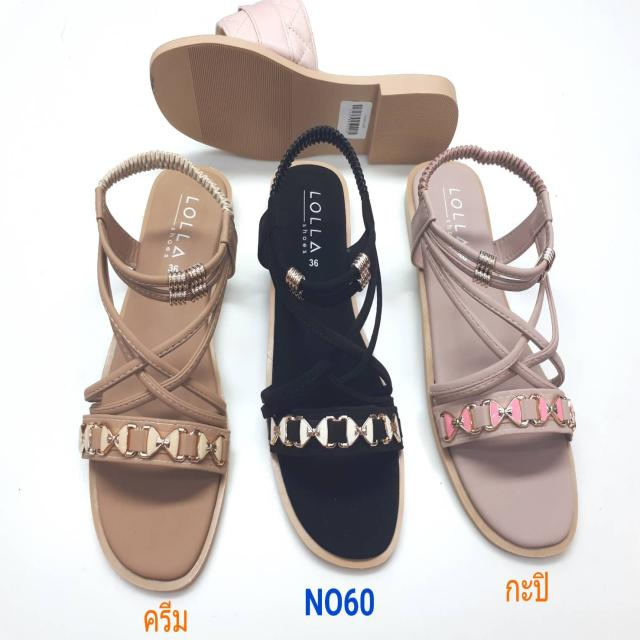black: (269, 164, 399, 550)
cream: (89, 164, 230, 594)
kapi: (414, 149, 581, 560)
